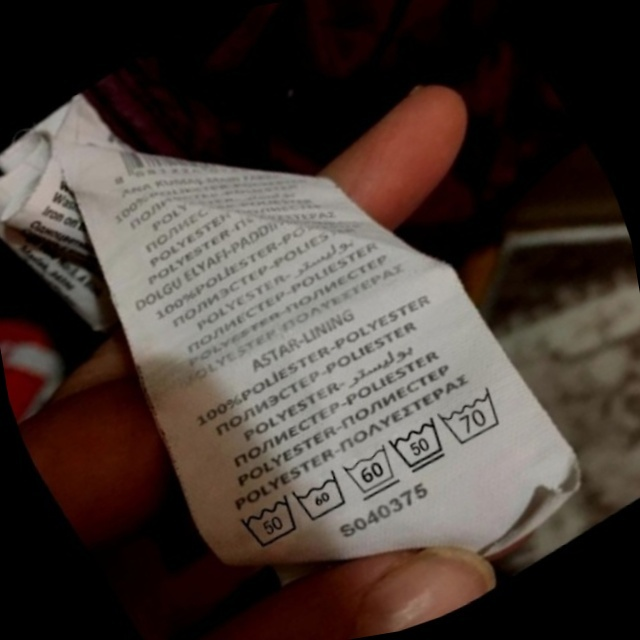50C: (223, 478, 317, 566), (377, 404, 464, 487)
60C: (331, 430, 415, 511), (281, 457, 364, 536)
70C: (428, 373, 521, 457)
